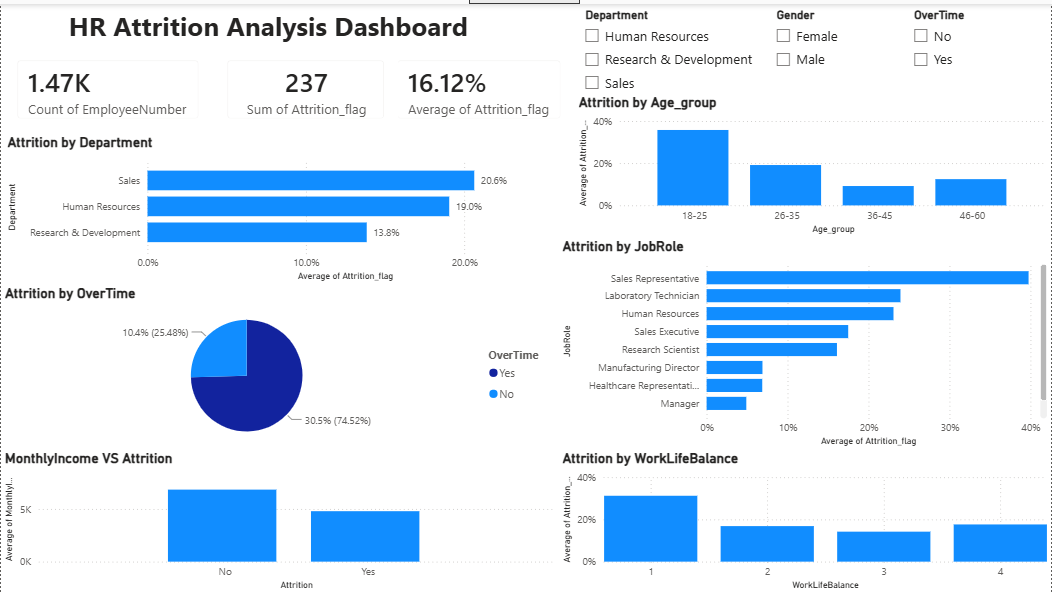

Layout of this report page (visuals, bound fields, positions):
{"tool":"powerbi","page":{"name":"Page 1","canvas":[1280,720],"ordinal":0},"visuals":[{"type":"cardVisual","fields":{"Data":["CountNonNull(hr_attriton_cleaned.EmployeeNumber)"]},"box":[3.4,51.8,255.9,105.9],"z":0},{"type":"cardVisual","fields":{"Data":["Avg(hr_attriton_cleaned.Attrition_flag)"]},"box":[466.6,51.8,233.3,105.9],"z":1000},{"type":"clusteredBarChart","title":"Attrition by JobRole","fields":{"Y":["Avg(hr_attriton_cleaned.Attrition_flag)"],"Category":["hr_attriton_cleaned.JobRole"]},"box":[679.8,285,600.5,259.1],"z":2000},{"type":"slicer","fields":{"Values":["hr_attriton_cleaned.Department"]},"box":[699.5,0,233.6,123.5],"z":3000},{"type":"columnChart","title":" MonthlyIncome VS Attrition","fields":{"Category":["hr_attriton_cleaned.Attrition"],"Y":["Avg(hr_attriton_cleaned.MonthlyIncome)"]},"box":[0,544.4,679.7,175.8],"z":4000},{"type":"columnChart","title":"Attrition  by Age_group","fields":{"Category":["hr_attriton_cleaned.Age_group"],"Y":["Avg(hr_attriton_cleaned.Attrition_flag)"]},"box":[699.9,109.3,580.5,175.8],"z":5000},{"type":"slicer","fields":{"Values":["hr_attriton_cleaned.Gender"]},"box":[933,0,167.5,123.5],"z":6000},{"type":"slicer","fields":{"Values":["hr_attriton_cleaned.OverTime"]},"box":[1100,0,180.2,123.3],"z":7000},{"type":"pieChart","title":"Attrition by OverTime","fields":{"Category":["hr_attriton_cleaned.OverTime"],"Y":["Avg(hr_attriton_cleaned.Attrition_flag)"]},"box":[0,342.6,678.5,201.8],"z":8000},{"type":"clusteredBarChart","title":"Attrition by Department","fields":{"Category":["hr_attriton_cleaned.Department"],"Y":["Avg(hr_attriton_cleaned.Attrition_flag)"]},"box":[3.4,157.8,679.7,184.8],"z":9000},{"type":"columnChart","title":"Attrition by WorkLifeBalance","fields":{"Category":["hr_attriton_cleaned.WorkLifeBalance"],"Y":["Avg(hr_attriton_cleaned.Attrition_flag)"]},"box":[679.8,542.6,600.5,176.8],"z":10000},{"type":"textbox","box":[78.3,0,512.4,61.1],"z":11000},{"type":"cardVisual","fields":{"Data":["Sum(hr_attriton_cleaned.Attrition_flag)"]},"box":[259.2,51.8,225.4,105.9],"z":12000}]}

Visuals, with their boxes in screenshot pixels (x1, y1, x2, y2), scaled from the page's 1280x720 canvas onto the 1052x593 screenshot:
cardVisual - CountNonNull(hr_attriton_cleaned.EmployeeNumber): x1=3, y1=43, x2=213, y2=130
cardVisual - Avg(hr_attriton_cleaned.Attrition_flag): x1=383, y1=43, x2=575, y2=130
"Attrition by JobRole" clusteredBarChart: x1=559, y1=235, x2=1051, y2=448
slicer - hr_attriton_cleaned.Department: x1=575, y1=0, x2=767, y2=102
" MonthlyIncome VS Attrition" columnChart: x1=0, y1=448, x2=559, y2=592
"Attrition  by Age_group" columnChart: x1=575, y1=90, x2=1051, y2=235
slicer - hr_attriton_cleaned.Gender: x1=767, y1=0, x2=904, y2=102
slicer - hr_attriton_cleaned.OverTime: x1=904, y1=0, x2=1051, y2=102
"Attrition by OverTime" pieChart: x1=0, y1=282, x2=558, y2=448
"Attrition by Department" clusteredBarChart: x1=3, y1=130, x2=561, y2=282
"Attrition by WorkLifeBalance" columnChart: x1=559, y1=447, x2=1051, y2=592
textbox: x1=64, y1=0, x2=485, y2=50
cardVisual - Sum(hr_attriton_cleaned.Attrition_flag): x1=213, y1=43, x2=398, y2=130
